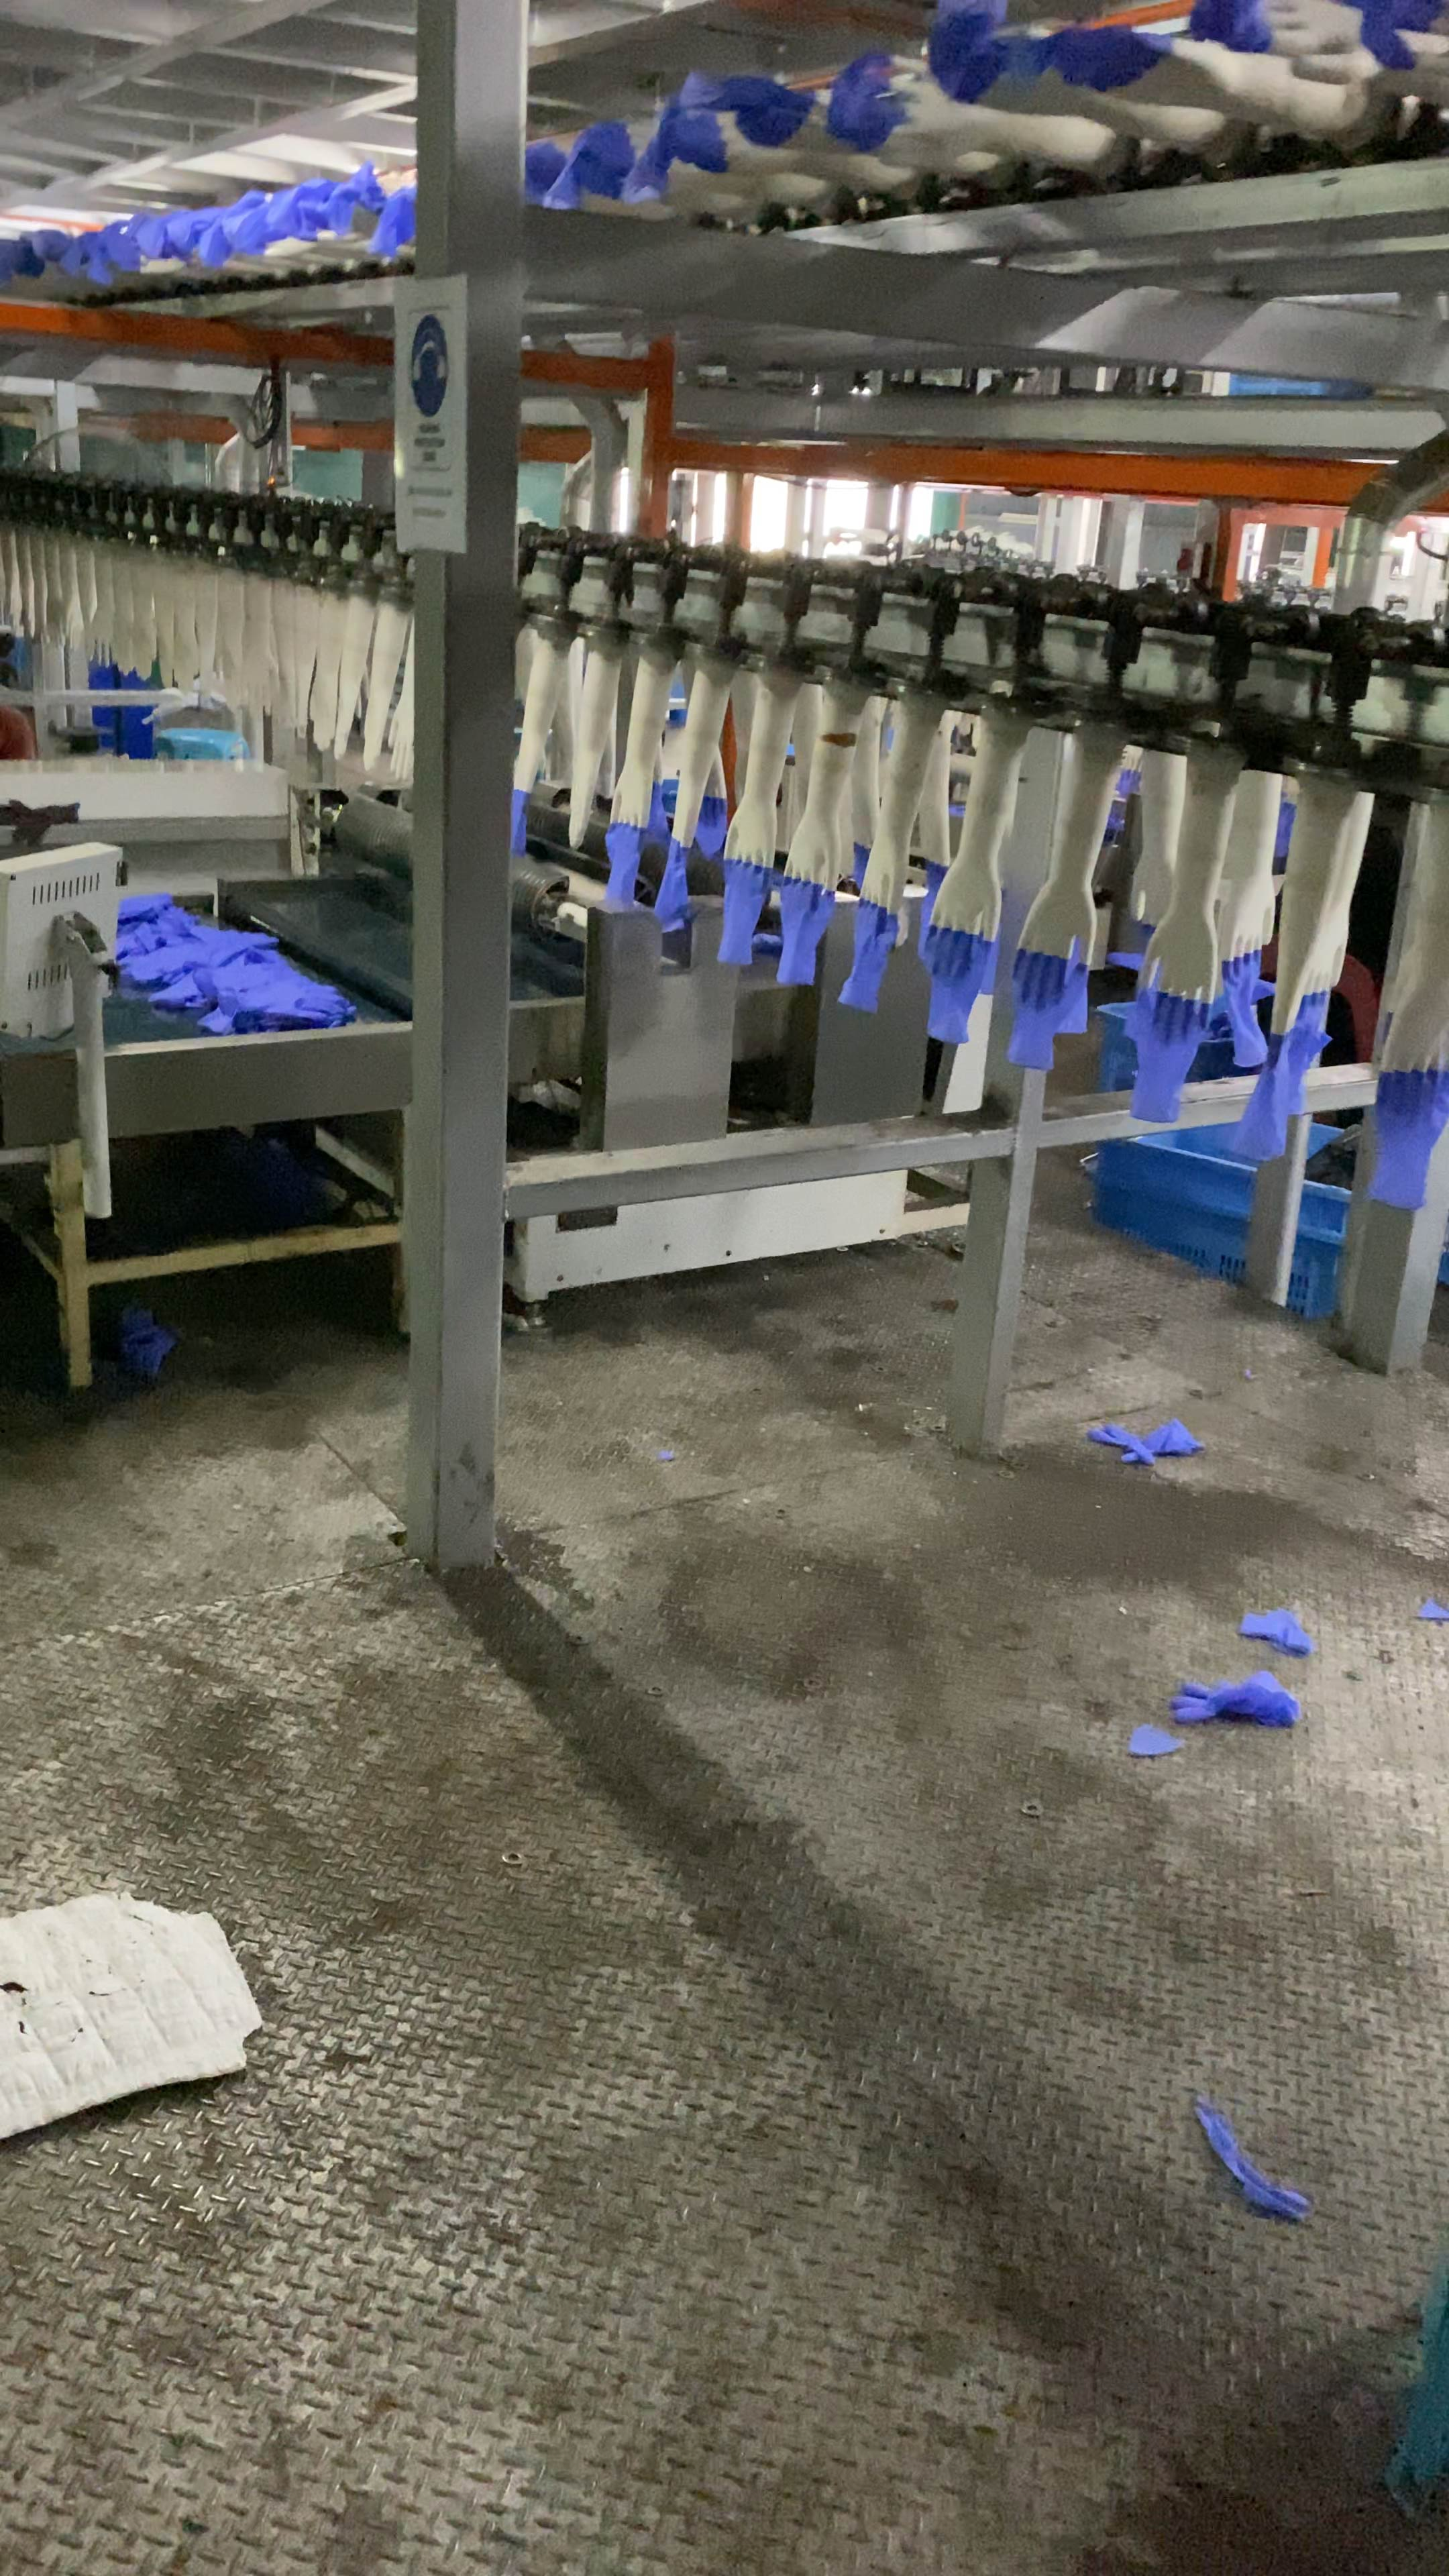glove: (115, 893, 356, 1033), (1369, 1070, 1449, 1210), (1131, 991, 1210, 1122), (679, 74, 814, 149), (927, 0, 1016, 106), (1008, 948, 1086, 1067), (625, 115, 729, 202), (1037, 28, 1175, 92), (922, 925, 991, 1044), (545, 124, 635, 211), (828, 55, 909, 149), (1231, 1037, 1292, 1161), (1171, 1670, 1299, 1729), (839, 897, 897, 1010), (1343, 0, 1444, 65), (775, 878, 833, 984), (1221, 950, 1269, 1067), (718, 860, 770, 962), (196, 191, 265, 267), (1288, 994, 1330, 1111), (1189, 0, 1272, 55), (1088, 1421, 1200, 1461), (331, 170, 386, 235), (267, 180, 327, 239), (653, 839, 688, 931), (603, 821, 642, 904), (370, 191, 416, 255), (165, 207, 219, 258), (0, 234, 42, 287), (104, 219, 142, 274), (134, 214, 173, 260), (83, 235, 113, 283), (506, 791, 527, 853), (27, 234, 65, 265), (55, 239, 81, 272)
